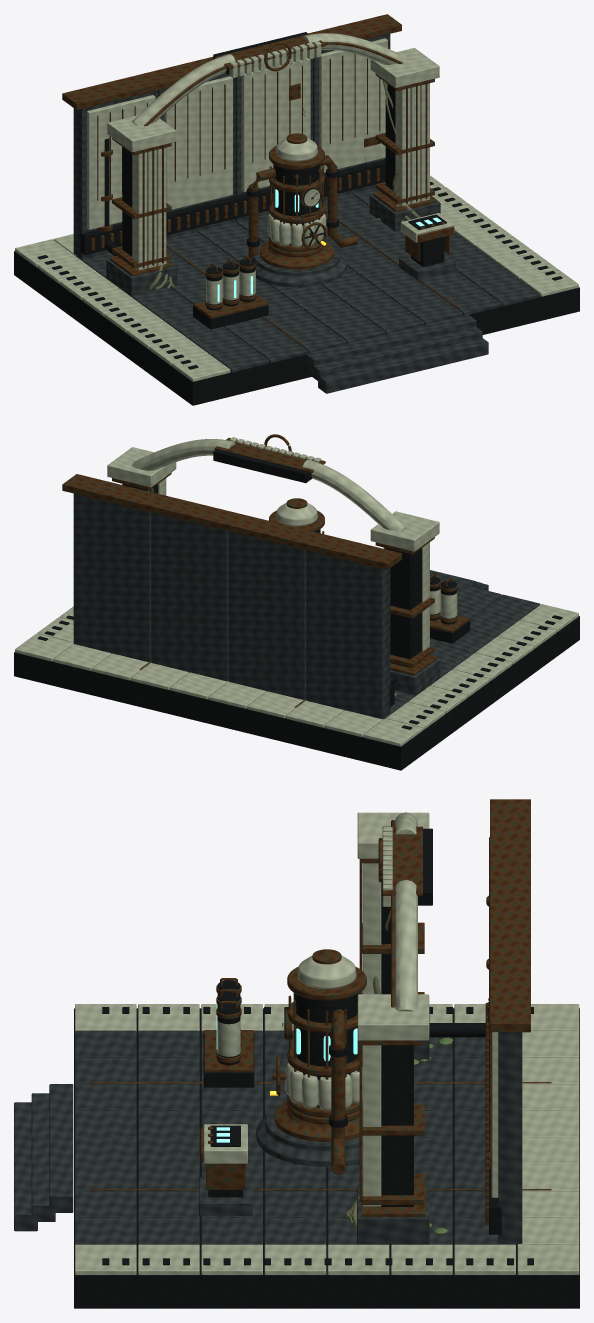
File: EXOVANT_Terra_Kit.glb
The picture shows the model from 3 angles, top to bottom: view 1: azimuth 30°, elevation 25°; view 2: azimuth 150°, elevation 25°; view 3: azimuth 270°, elevation 25°; orthographic projection. The views are drawn at different scales.
Visible parts, largest first — view 1: ENV_TERRA_Foundation_10x8__stone, ENV_TERRA_SluiceWall_8x4__ceramic, ENV_TERRA_Foundation_10x8__ceramic, ENV_TERRA_Foundation_10x8__dark, ENV_TERRA_SluiceWall_8x4__bronze, ENV_TERRA_RibPilaster_L__ceramic, ENV_TERRA_RibPilaster_R__ceramic, PR_TERRA_ResonanceRegulator__bronze, ENV_TERRA_SluiceWall_8x4__stone, ENV_TERRA_SluiceWall_8x4__dark, ENV_TERRA_RibPilaster_L__bronze, ENV_TERRA_RibPilaster_R__bronze (+18 smaller); view 2: ENV_TERRA_SluiceWall_8x4__stone, ENV_TERRA_Foundation_10x8__ceramic, ENV_TERRA_Foundation_10x8__dark, ENV_TERRA_SluiceWall_8x4__bronze, ENV_TERRA_Foundation_10x8__stone, ENV_TERRA_RibPilaster_L__ceramic, ENV_TERRA_RibPilaster_L__dark, ENV_TERRA_RibPilaster_R__ceramic, ENV_TERRA_RibPilaster_L__bronze, ENV_TERRA_CrownSpine__dark, ENV_TERRA_CrownSpine__bronze, ENV_TERRA_RibPilaster_L__stone (+6 smaller); view 3: ENV_TERRA_Foundation_10x8__stone, ENV_TERRA_Foundation_10x8__ceramic, ENV_TERRA_Foundation_10x8__dark, ENV_TERRA_SluiceWall_8x4__bronze, ENV_TERRA_RibPilaster_R__ceramic, PR_TERRA_ResonanceRegulator__bronze, ENV_TERRA_SluiceWall_8x4__stone, ENV_TERRA_RibPilaster_R__dark, ENV_TERRA_RibPilaster_L__ceramic, ENV_TERRA_RibPilaster_R__bronze, PR_TERRA_ResonanceRegulator__ceramic, PR_TERRA_ResonanceRegulator__dark (+18 smaller).
Boxes of the visible parts, x1,y1,x2,y2 form: ENV_TERRA_Foundation_10x8__stone: (76, 188, 540, 393); ENV_TERRA_SluiceWall_8x4__ceramic: (87, 38, 387, 229); ENV_TERRA_Foundation_10x8__ceramic: (15, 175, 578, 381); ENV_TERRA_Foundation_10x8__dark: (14, 182, 579, 405); ENV_TERRA_SluiceWall_8x4__bronze: (62, 14, 401, 250); ENV_TERRA_RibPilaster_L__ceramic: (107, 54, 235, 270); ENV_TERRA_RibPilaster_R__ceramic: (302, 33, 439, 206); PR_TERRA_ResonanceRegulator__bronze: (238, 133, 357, 272); ENV_TERRA_SluiceWall_8x4__stone: (73, 34, 390, 259); ENV_TERRA_SluiceWall_8x4__dark: (80, 159, 385, 255); ENV_TERRA_RibPilaster_L__bronze: (109, 66, 226, 276); ENV_TERRA_RibPilaster_R__bronze: (324, 42, 437, 212); ENV_TERRA_SluiceWall_8x4__stone: (73, 493, 390, 719); ENV_TERRA_Foundation_10x8__ceramic: (15, 604, 578, 746); ENV_TERRA_Foundation_10x8__dark: (14, 612, 579, 770); ENV_TERRA_SluiceWall_8x4__bronze: (62, 474, 401, 569); ENV_TERRA_Foundation_10x8__stone: (383, 570, 540, 719); ENV_TERRA_RibPilaster_L__ceramic: (302, 460, 439, 651); ENV_TERRA_RibPilaster_L__dark: (385, 548, 428, 667); ENV_TERRA_RibPilaster_R__ceramic: (107, 439, 235, 495); ENV_TERRA_RibPilaster_L__bronze: (375, 537, 437, 675); ENV_TERRA_CrownSpine__dark: (213, 449, 312, 483); ENV_TERRA_CrownSpine__bronze: (214, 434, 325, 473); ENV_TERRA_RibPilaster_L__stone: (390, 658, 440, 695); ENV_TERRA_Foundation_10x8__stone: (14, 1030, 515, 1245); ENV_TERRA_Foundation_10x8__ceramic: (75, 1004, 579, 1274); ENV_TERRA_Foundation_10x8__dark: (74, 1007, 579, 1308); ENV_TERRA_SluiceWall_8x4__bronze: (485, 799, 530, 1224); ENV_TERRA_RibPilaster_R__ceramic: (357, 880, 429, 1206); PR_TERRA_ResonanceRegulator__bronze: (272, 949, 366, 1174); ENV_TERRA_SluiceWall_8x4__stone: (498, 1032, 522, 1244); ENV_TERRA_RibPilaster_R__dark: (372, 1045, 413, 1206); ENV_TERRA_RibPilaster_L__ceramic: (357, 812, 429, 994); ENV_TERRA_RibPilaster_R__bronze: (359, 895, 425, 1216); PR_TERRA_ResonanceRegulator__ceramic: (285, 955, 362, 1110); PR_TERRA_ResonanceRegulator__dark: (294, 993, 359, 1127).
Size of what is drawn, in the model's own units: 10 by 5.85 by 8.95.
Materials: 8 (4 with a texture image).
